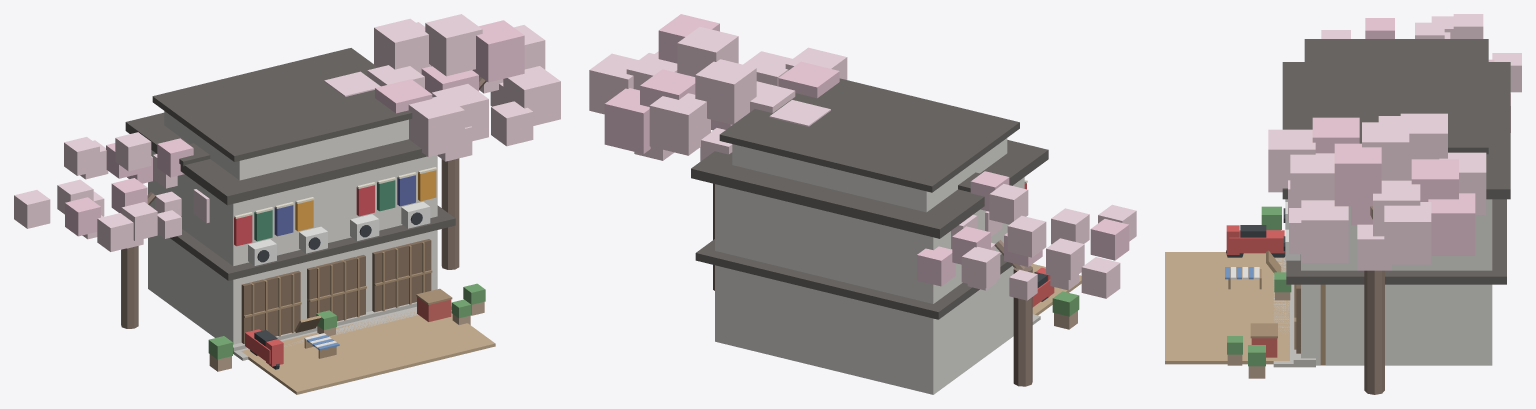
The model's file is sakura.glb.
3 renders of one model, left to right at view 1: azimuth 30°, elevation 25°; view 2: azimuth 150°, elevation 25°; view 3: azimuth 270°, elevation 25°, orthographic. The views are drawn at different scales.
Parts seen in each view (by area): view 1: eaveTop, deck, f2floor, gfloor, eave2, wallUp, eave1, wood2, bloss.013, wood0, wood1, bloss.007 (+40 smaller); view 2: gfloor, eaveTop, f2floor, eave2, wallUp, eave1, bloss.008, bloss.014, bloss.012, bloss.007, bloss.010, trunk_-5_1 (+22 smaller); view 3: eaveTop, gfloor, deck, eave2, eave1, f2floor, bloss.005, bloss.010, bloss.009, bloss.012, trunk_5_0, bloss.004 (+25 smaller).
Part boxes in pixels (box(x1,y1,x2,y2)): eaveTop: box(152, 48, 412, 161); deck: box(241, 311, 495, 394); f2floor: box(148, 150, 437, 266); gfloor: box(148, 230, 437, 344); eave2: box(125, 112, 426, 205); wallUp: box(164, 111, 408, 180); eave1: box(149, 205, 455, 280); wood2: box(372, 239, 431, 312); bloss.013: box(408, 95, 464, 156); wood0: box(241, 270, 300, 343); wood1: box(307, 255, 365, 321); bloss.007: box(425, 14, 482, 76); gfloor: box(715, 265, 1013, 394); eaveTop: box(719, 78, 1019, 192); f2floor: box(715, 177, 1024, 303); eave2: box(691, 140, 1048, 238); wallUp: box(732, 138, 1007, 212); eave1: box(695, 239, 1012, 319); bloss.008: box(695, 59, 756, 124); bloss.014: box(649, 93, 710, 155); bloss.012: box(604, 88, 650, 153); bloss.007: box(677, 26, 738, 76); bloss.010: box(589, 53, 638, 114); trunk_-5_1: box(1013, 266, 1032, 386); eaveTop: box(1304, 39, 1488, 154); gfloor: box(1301, 284, 1492, 365); deck: box(1165, 252, 1289, 364); eave2: box(1282, 62, 1510, 199); eave1: box(1286, 199, 1506, 284); f2floor: box(1301, 199, 1492, 270); bloss.005: box(1301, 200, 1348, 262); bloss.010: box(1384, 202, 1431, 264); bloss.009: box(1334, 143, 1381, 206); bloss.012: box(1428, 193, 1475, 255); trunk_5_0: box(1364, 270, 1384, 394); bloss.004: box(1290, 153, 1334, 207).
Size of what is drawn, in the model's own units: 17.49 by 7.89 by 9.7.
